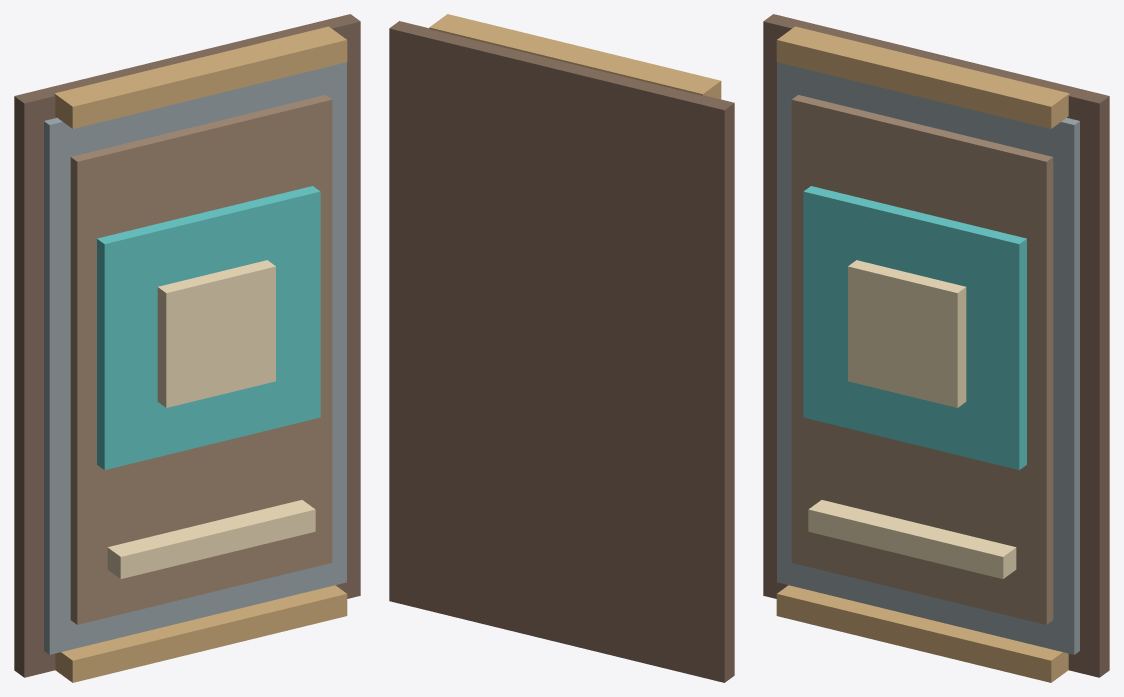
File: gallery-exhibit-banner.glb
3 renders of one model, left to right at view 1: azimuth 30°, elevation 25°; view 2: azimuth 150°, elevation 25°; view 3: azimuth 330°, elevation 25°, orthographic.
Bounding box in the file's own units: 1.9 × 3.11 × 0.38.
